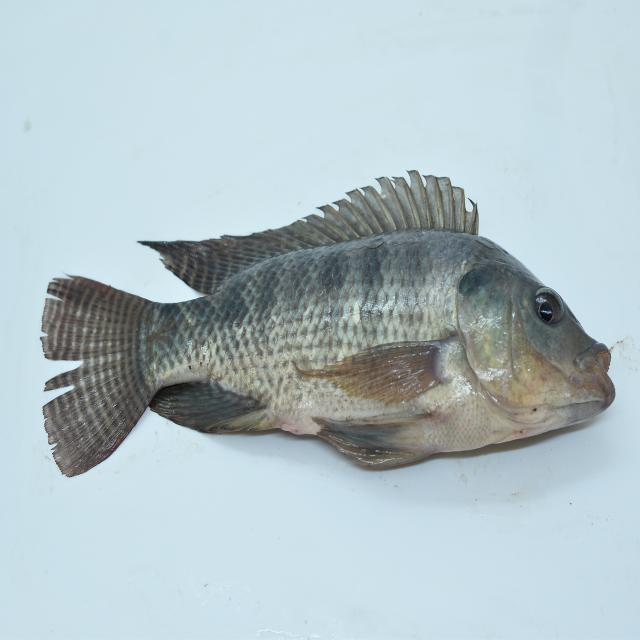Healthy Fish: (31, 168, 616, 484)
